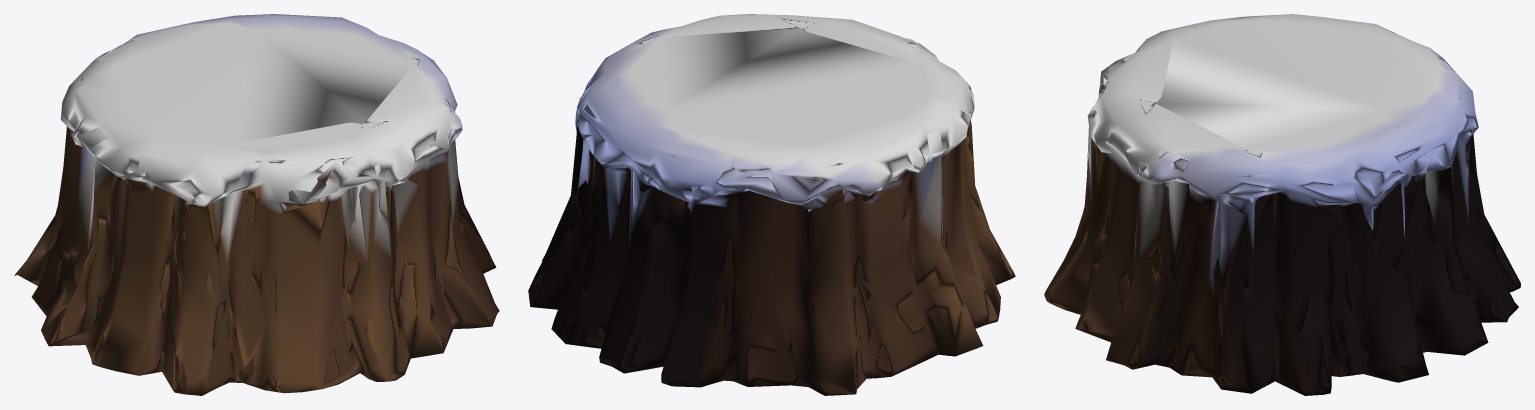
Rendered from gen3d-snowy-stump-lod0.glb.
3 views of the same model, side by side, from view 1: azimuth 30°, elevation 25°; view 2: azimuth 150°, elevation 25°; view 3: azimuth 270°, elevation 25° (orthographic).
Visible parts, largest first — view 1: part_0; view 2: part_0; view 3: part_0.
Part boxes in pixels (x1=…): part_0: x1=14, y1=14, x2=499, y2=395; part_0: x1=528, y1=14, x2=1015, y2=395; part_0: x1=1044, y1=14, x2=1520, y2=395.
Bounding box in the file's own units: 2.09 × 0.9988 × 2.05.
